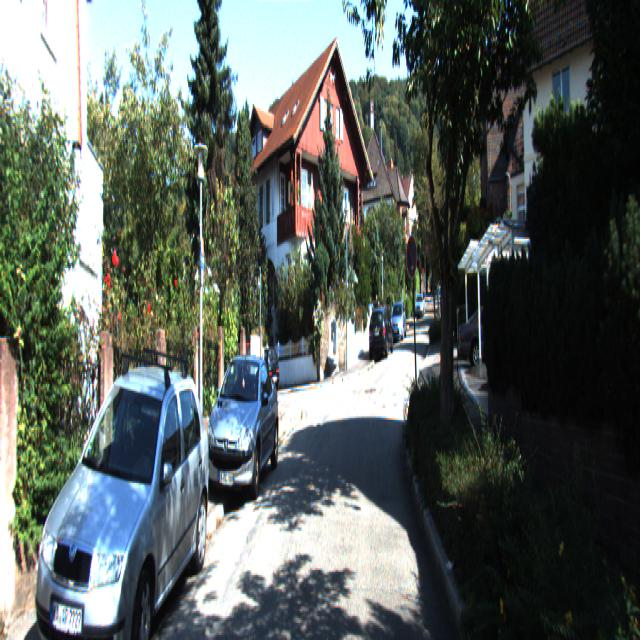Car: (35, 346, 211, 638), (205, 344, 279, 514), (459, 286, 528, 356), (251, 341, 281, 400), (370, 305, 394, 361), (390, 300, 408, 340)
